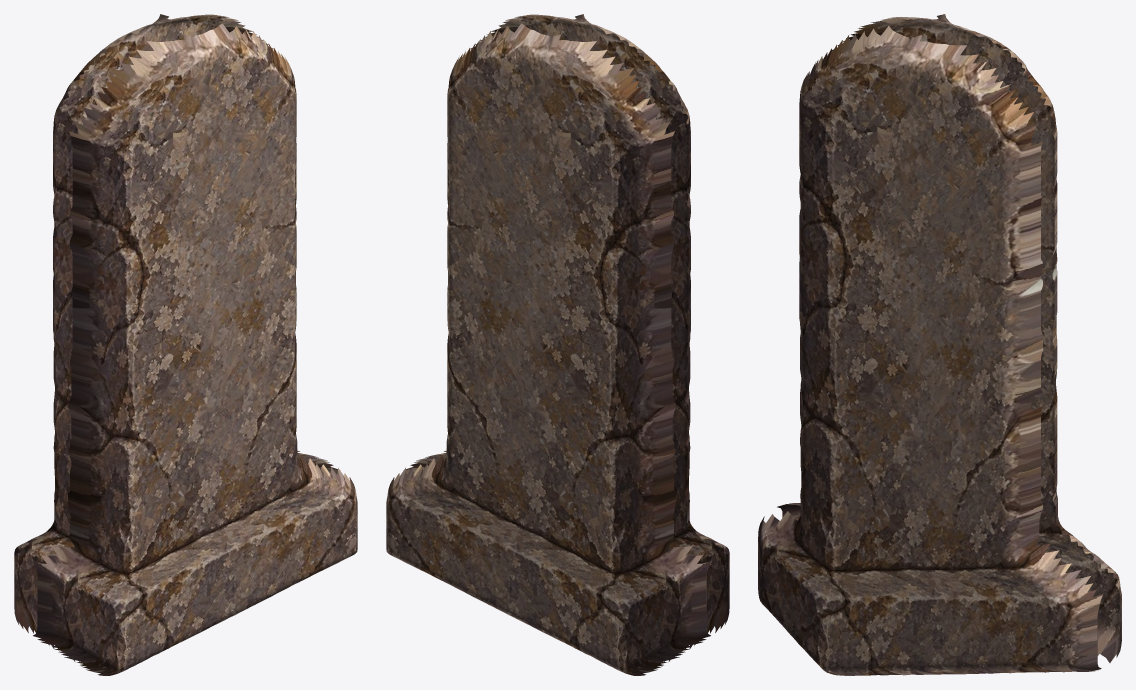
File: v4-crypt-door-scatter-stone-marker.glb
3 views of the same model, side by side, from view 1: azimuth 30°, elevation 25°; view 2: azimuth 150°, elevation 25°; view 3: azimuth 330°, elevation 25° (orthographic). The views are drawn at different scales.
Parts seen in each view (by area): view 1: v4-crypt-door-scatter-stone-marker; view 2: v4-crypt-door-scatter-stone-marker; view 3: v4-crypt-door-scatter-stone-marker.
Part boxes in pixels (box(x1,y1,x2,y2)): v4-crypt-door-scatter-stone-marker: box(14, 14, 357, 675); v4-crypt-door-scatter-stone-marker: box(386, 14, 729, 675); v4-crypt-door-scatter-stone-marker: box(758, 14, 1121, 675).
Bounding box in the file's own units: 0.7434 × 1.39 × 0.1854.
1 material, 1 textured.
